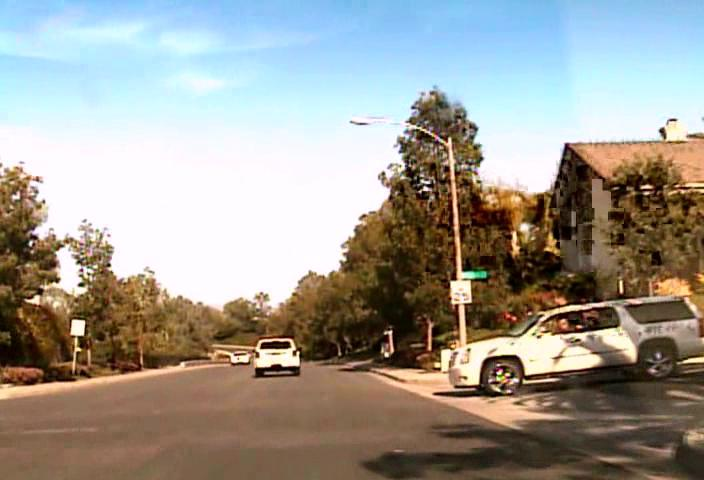speedLimit25: (449, 279, 472, 304)
